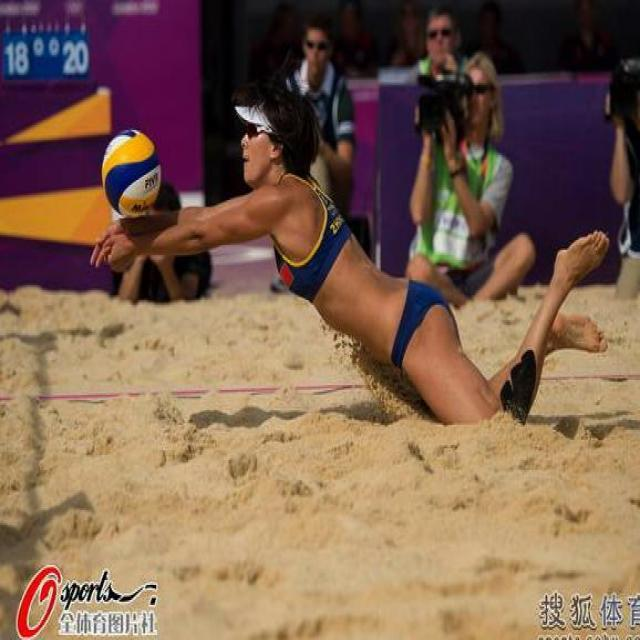fall: (192, 107, 570, 426)
